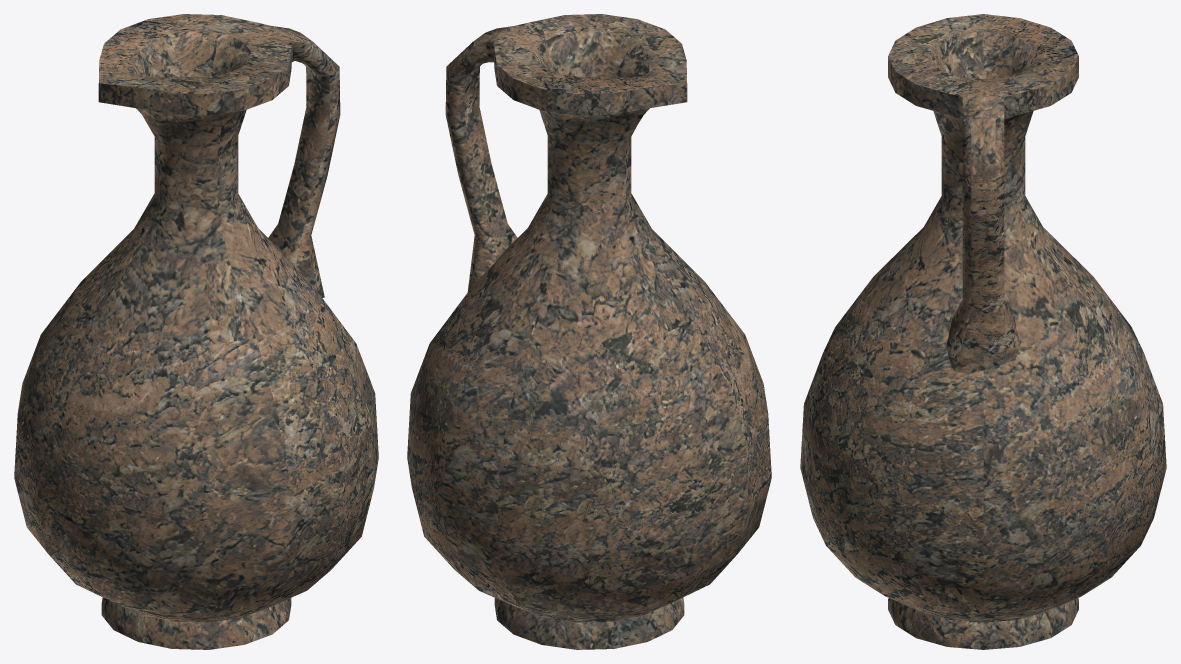
The model's file is Vessel03.fbx.
3 views of the same model, side by side, from view 1: azimuth 30°, elevation 25°; view 2: azimuth 150°, elevation 25°; view 3: azimuth 270°, elevation 25° (orthographic).
Visible parts, largest first — view 1: Vessel03; view 2: Vessel03; view 3: Vessel03.
Boxes of the visible parts, x1,y1,x2,y2 form: Vessel03: (14,14,378,649); Vessel03: (407,14,771,649); Vessel03: (800,14,1166,649).
Size of the model in its own units: 18.82 by 31.37 by 18.82.
